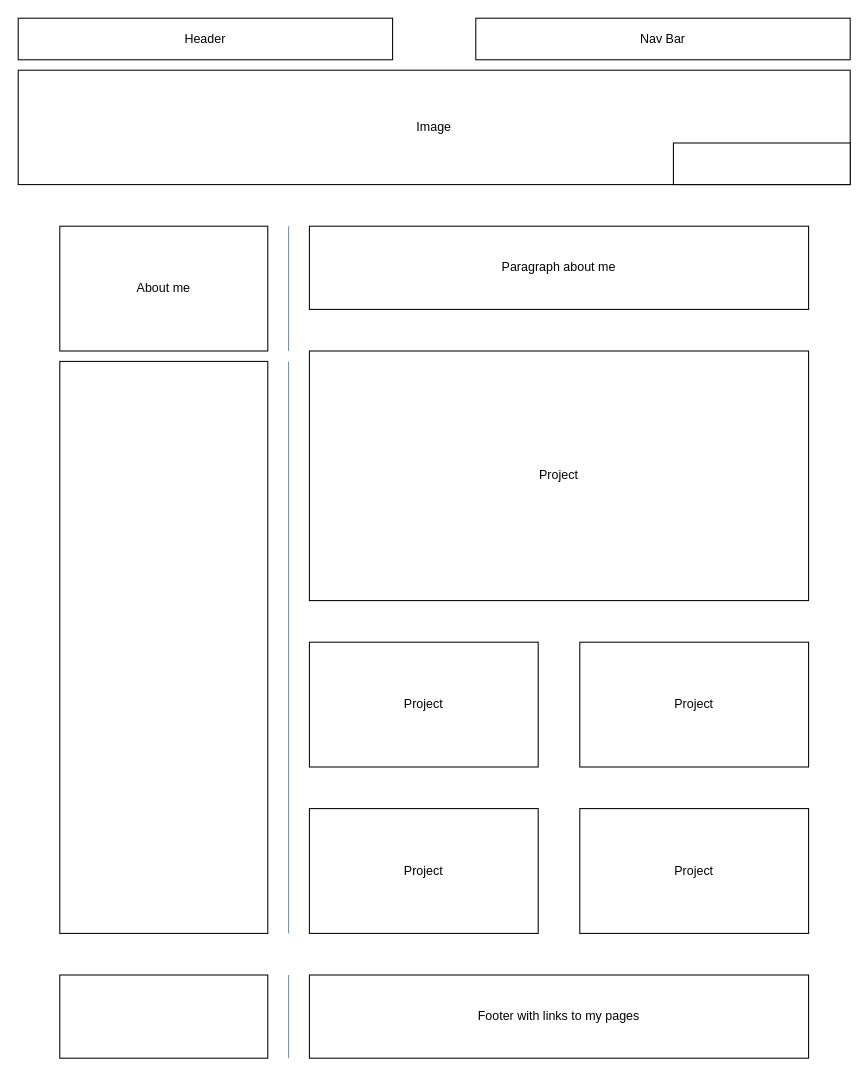
The diagram is 868 pixels wide and 1077 high, and some of its shapes have lost their labels. Here are the shapes that lost their labels. From the top down, the box of each, then its label:
(672, 142, 850, 185): Subtitle
(59, 360, 268, 933): Work
(59, 974, 268, 1058): Contact Me
